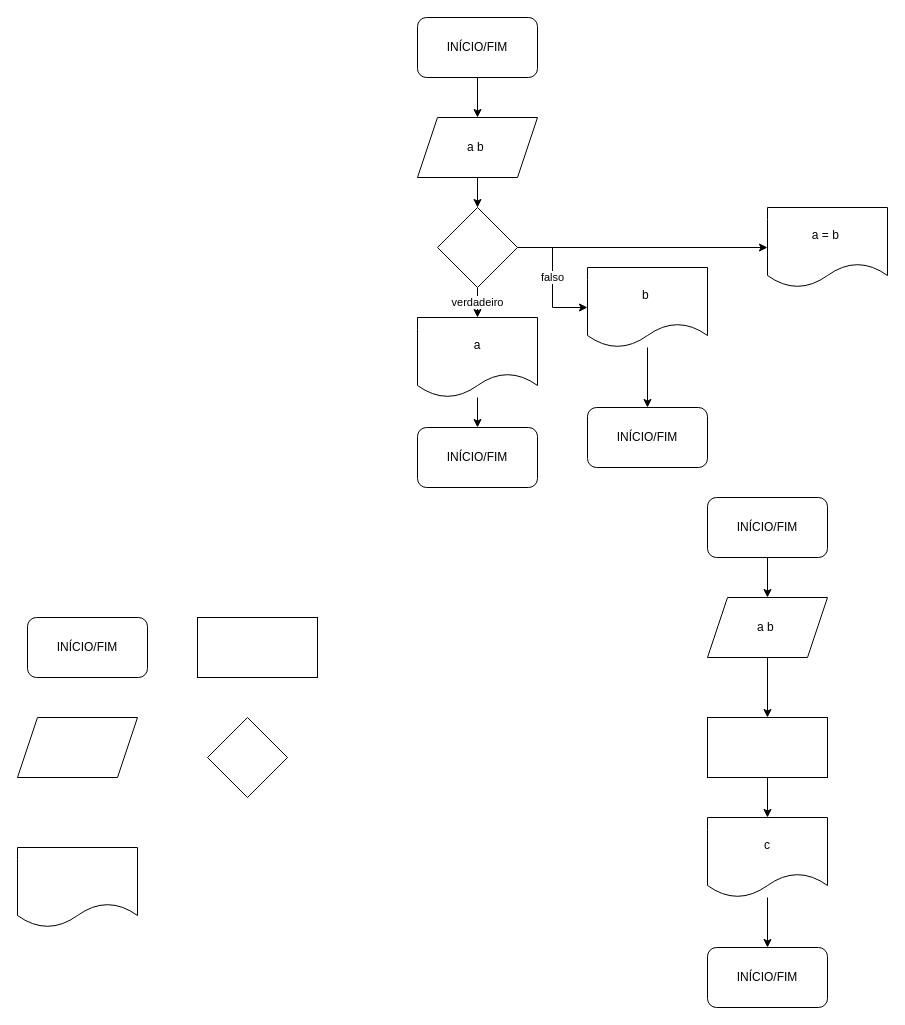
Image size: 905x1025. Some labels were removed from this diagram. The box of each missing label's shape, as (x1, y1, x2, y2) in pixels:
a > b: (436, 206, 518, 288)
c = a + b: (706, 716, 828, 778)
DECISÃO: (206, 716, 288, 798)
ENTRADA: (16, 716, 138, 778)
PROCESSAMENTO: (196, 616, 318, 678)
SAIDA: (16, 846, 138, 928)
